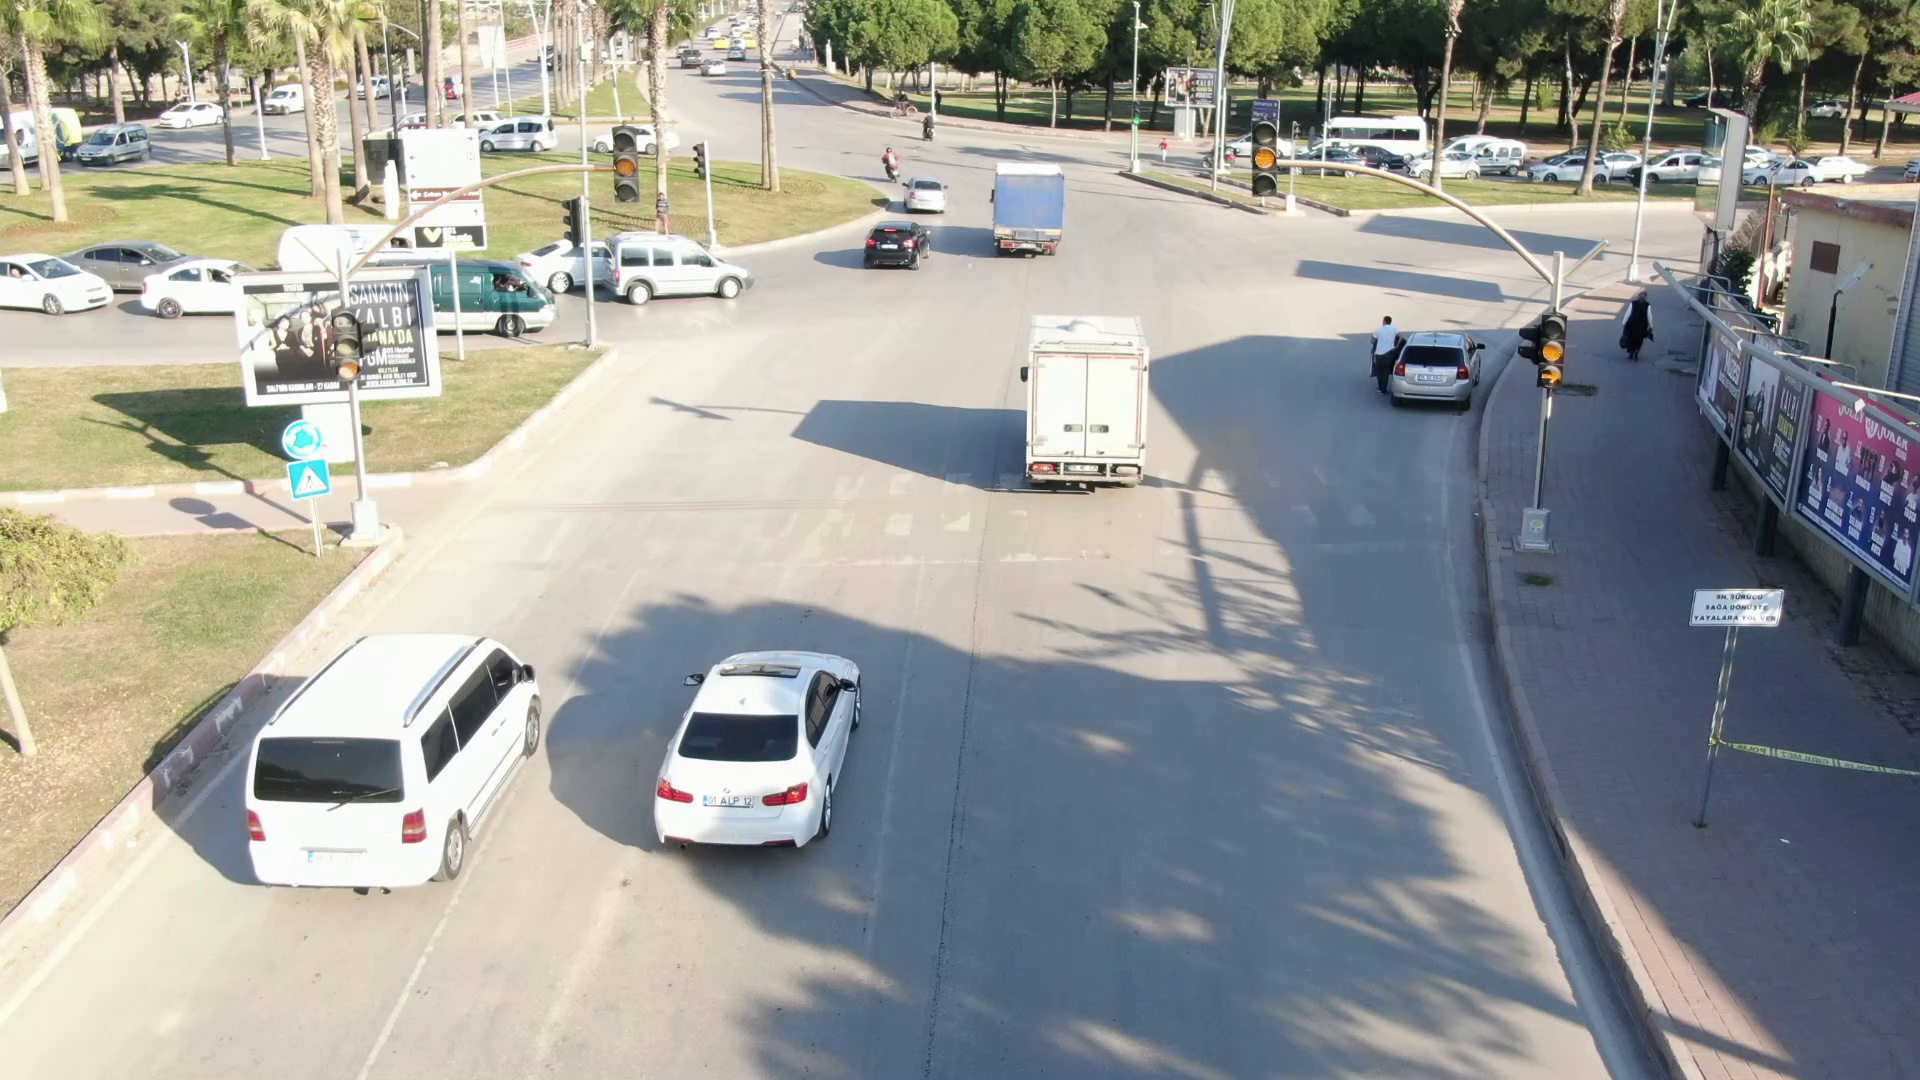car: (243, 587, 565, 912), (634, 623, 877, 873), (1008, 298, 1200, 505), (602, 225, 754, 311), (980, 159, 1076, 263), (1397, 325, 1502, 415), (858, 216, 939, 275)
person: (1612, 285, 1654, 362), (1366, 305, 1398, 403)
